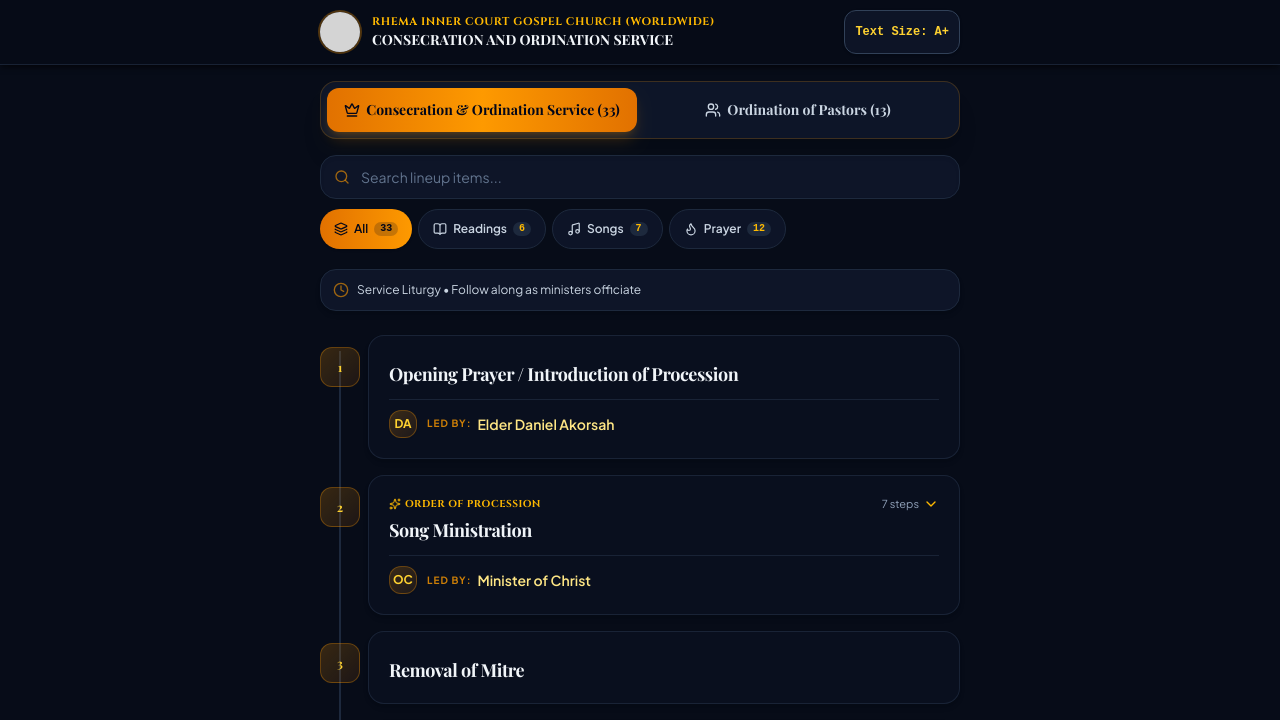
Test: ConsecrationProgram Page Component (Verbatim Document Lineup) › switches to Ordination of Pastors tab and renders the 13 verbatim items
Click the button "Ordination of Pastors (13)": (798, 110) [643, 88, 953, 132]
(page scrolled)
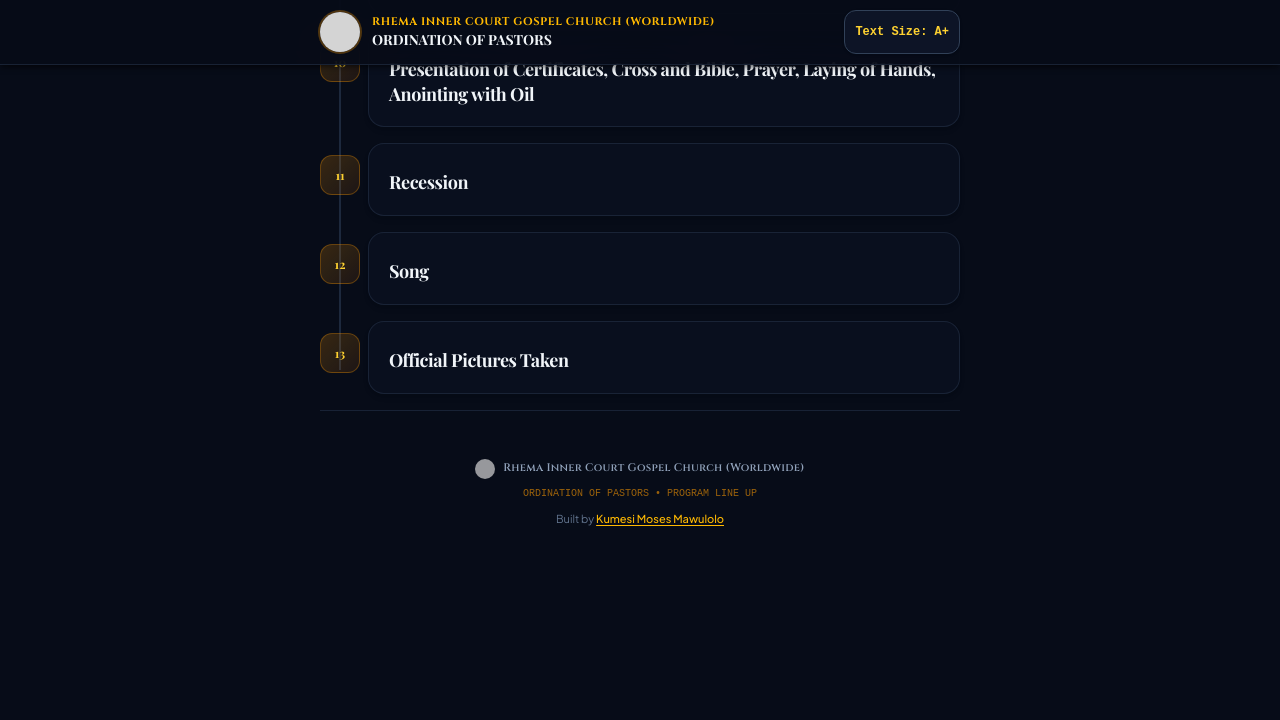
Expected: the heading "ORDINATION OF PASTORS" is shown, [372, 30, 552, 50]
Expected: the heading "PRESENTATION OF CERTIFICATES, CROSS AND BIBLE, prayer, laying of hands, anointing with oil" is shown, [389, 57, 935, 106]
Expected: the heading "Official Pictures Taken" is shown, [389, 348, 568, 372]
